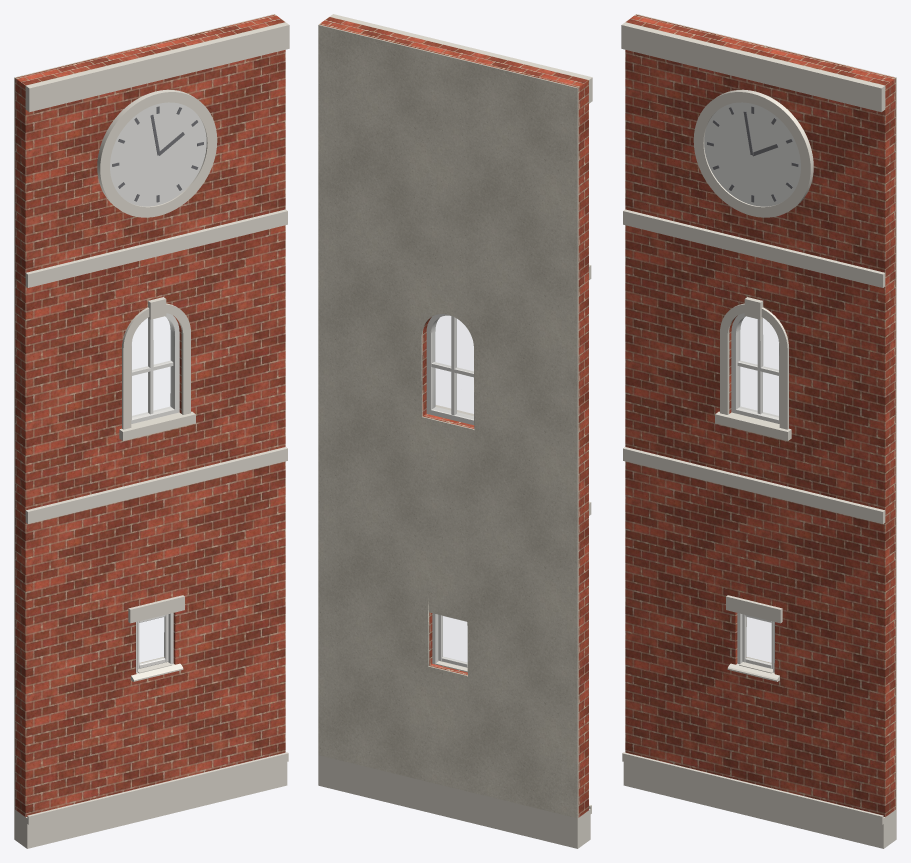
The model's file is tower_wall.glb.
3 views of the same model, side by side, from view 1: azimuth 30°, elevation 25°; view 2: azimuth 150°, elevation 25°; view 3: azimuth 330°, elevation 25° (orthographic).
Visible parts, largest first — view 1: tower_wall_brick, tower_wall_lime, tower_wall_clockface, tower_wall_glass, tower_wall_frame, tower_wall_plaster, tower_wall_dark, tower_wall_trim, tower_wall_sash; view 2: tower_wall_plaster, tower_wall_brick, tower_wall_lime, tower_wall_glass, tower_wall_frame; view 3: tower_wall_brick, tower_wall_lime, tower_wall_clockface, tower_wall_glass, tower_wall_frame, tower_wall_plaster, tower_wall_dark, tower_wall_trim, tower_wall_sash.
Part boxes in pixels (left/top/right/bottom): tower_wall_brick: left=15, top=14, right=285, bottom=816; tower_wall_lime: left=14, top=22, right=289, bottom=848; tower_wall_clockface: left=110, top=102, right=206, bottom=206; tower_wall_glass: left=132, top=317, right=171, bottom=663; tower_wall_frame: left=131, top=313, right=179, bottom=672; tower_wall_plaster: left=14, top=14, right=274, bottom=809; tower_wall_dark: left=112, top=106, right=203, bottom=202; tower_wall_trim: left=131, top=662, right=183, bottom=681; tower_wall_sash: left=138, top=614, right=168, bottom=668; tower_wall_plaster: left=318, top=24, right=578, bottom=818; tower_wall_brick: left=319, top=17, right=588, bottom=817; tower_wall_lime: left=318, top=14, right=592, bottom=848; tower_wall_glass: left=433, top=316, right=473, bottom=662; tower_wall_frame: left=426, top=314, right=474, bottom=664; tower_wall_brick: left=625, top=14, right=895, bottom=816; tower_wall_lime: left=621, top=22, right=896, bottom=848; tower_wall_clockface: left=704, top=102, right=800, bottom=206; tower_wall_glass: left=739, top=317, right=778, bottom=663; tower_wall_frame: left=731, top=313, right=779, bottom=672; tower_wall_plaster: left=636, top=14, right=896, bottom=809; tower_wall_dark: left=707, top=106, right=798, bottom=202; tower_wall_trim: left=727, top=662, right=779, bottom=681; tower_wall_sash: left=742, top=614, right=772, bottom=668.
Bounding box in the file's own units: 4 × 11.2 × 0.4.
9 materials, 2 textured.
